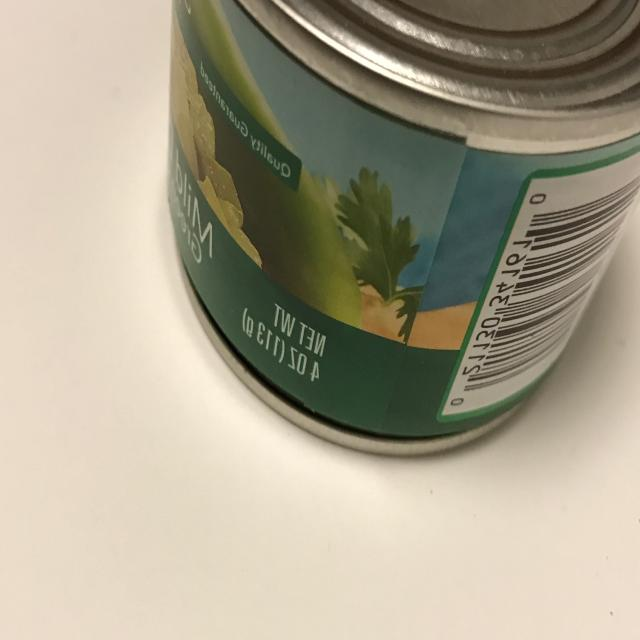metal: (165, 0, 640, 458)
